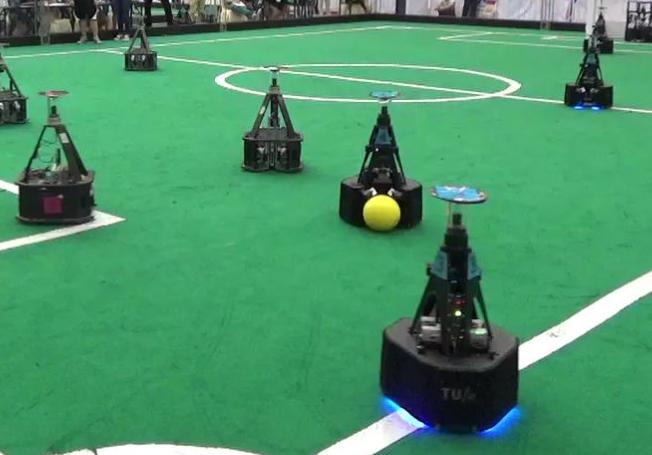robot: (375, 178, 523, 442), (336, 85, 425, 230), (12, 85, 100, 227), (238, 63, 305, 175), (560, 23, 613, 114), (120, 16, 162, 75)
